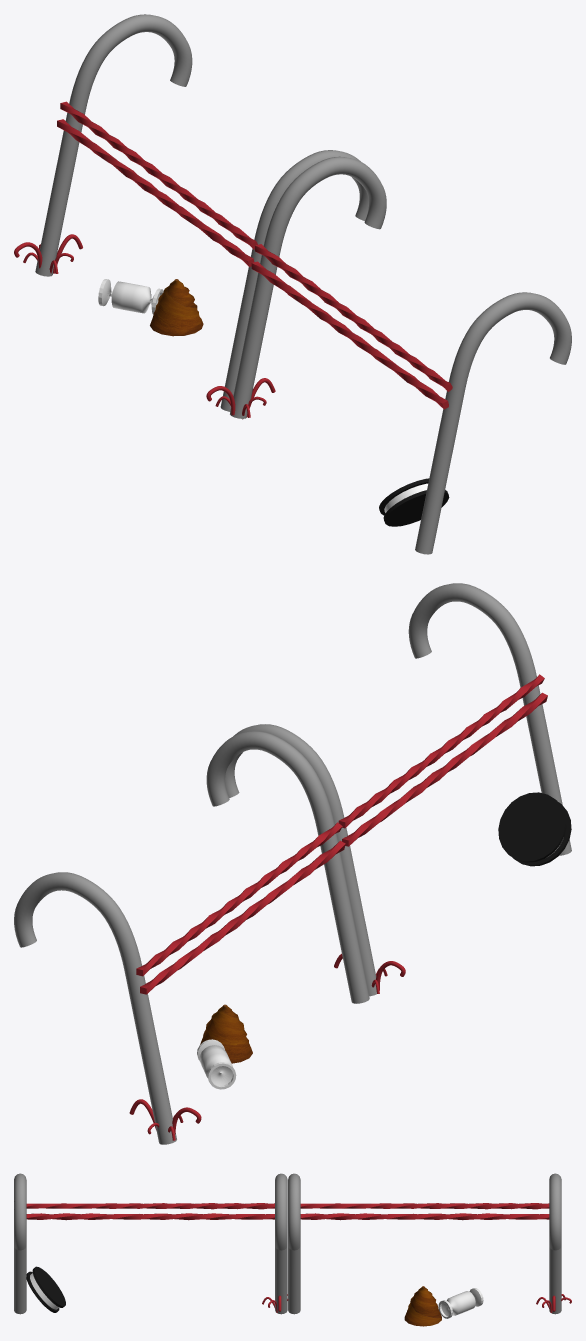
File: fence.FBX
3 renders of one model, top to bottom at view 1: azimuth 30°, elevation 25°; view 2: azimuth 150°, elevation 25°; view 3: azimuth 270°, elevation 25°, orthographic. The views are drawn at different scales.
Parts seen in each view (by area): view 1: Line007, Line002, Line008, Line003, Box006, Box005, Box004, Box007, Cylinder008, Tube001, Cylinder009; view 2: Line002, Line003, Line007, Line008, Cylinder010, Box005, Box006, Box004, Box007, Cylinder008, Tube001; view 3: Line003, Line007, Line008, Line002, Box005, Box006, Box004, Box007, Cylinder008, Tube001, Cylinder010, Cylinder011 (+1 smaller).
Boxes of the visible parts, x1=… form: Line007: x1=415, y1=292, x2=571, y2=554; Line002: x1=35, y1=14, x2=192, y2=276; Line008: x1=230, y1=156, x2=386, y2=418; Line003: x1=220, y1=150, x2=368, y2=411; Box006: x1=251, y1=261, x2=448, y2=409; Box005: x1=57, y1=119, x2=254, y2=267; Box004: x1=60, y1=101, x2=257, y2=249; Box007: x1=255, y1=244, x2=452, y2=391; Cylinder008: x1=150, y1=279, x2=203, y2=336; Tube001: x1=98, y1=279, x2=163, y2=314; Cylinder009: x1=383, y1=490, x2=449, y2=526; Line002: x1=14, y1=872, x2=176, y2=1144; Line003: x1=206, y1=731, x2=369, y2=1003; Line007: x1=408, y1=583, x2=571, y2=855; Line008: x1=225, y1=724, x2=376, y2=996; Cylinder010: x1=498, y1=792, x2=566, y2=862; Box005: x1=140, y1=840, x2=345, y2=994; Box006: x1=342, y1=692, x2=547, y2=846; Box004: x1=136, y1=822, x2=342, y2=976; Box007: x1=338, y1=674, x2=544, y2=828; Cylinder008: x1=200, y1=1004, x2=252, y2=1063; Tube001: x1=197, y1=1039, x2=236, y2=1089; Line003: x1=288, y1=1173, x2=300, y2=1314; Line007: x1=14, y1=1173, x2=26, y2=1314; Line008: x1=275, y1=1173, x2=287, y2=1314; Line002: x1=549, y1=1173, x2=561, y2=1314; Box005: x1=300, y1=1213, x2=549, y2=1220; Box006: x1=26, y1=1213, x2=274, y2=1220; Box004: x1=300, y1=1203, x2=549, y2=1209; Box007: x1=26, y1=1203, x2=274, y2=1209; Cylinder008: x1=404, y1=1286, x2=441, y2=1326; Tube001: x1=438, y1=1288, x2=483, y2=1318; Cylinder010: x1=32, y1=1266, x2=65, y2=1307; Cylinder011: x1=30, y1=1273, x2=58, y2=1309.
Size of the model in its own units: 54.27 by 68.1 by 207.
5 materials, 1 textured.
